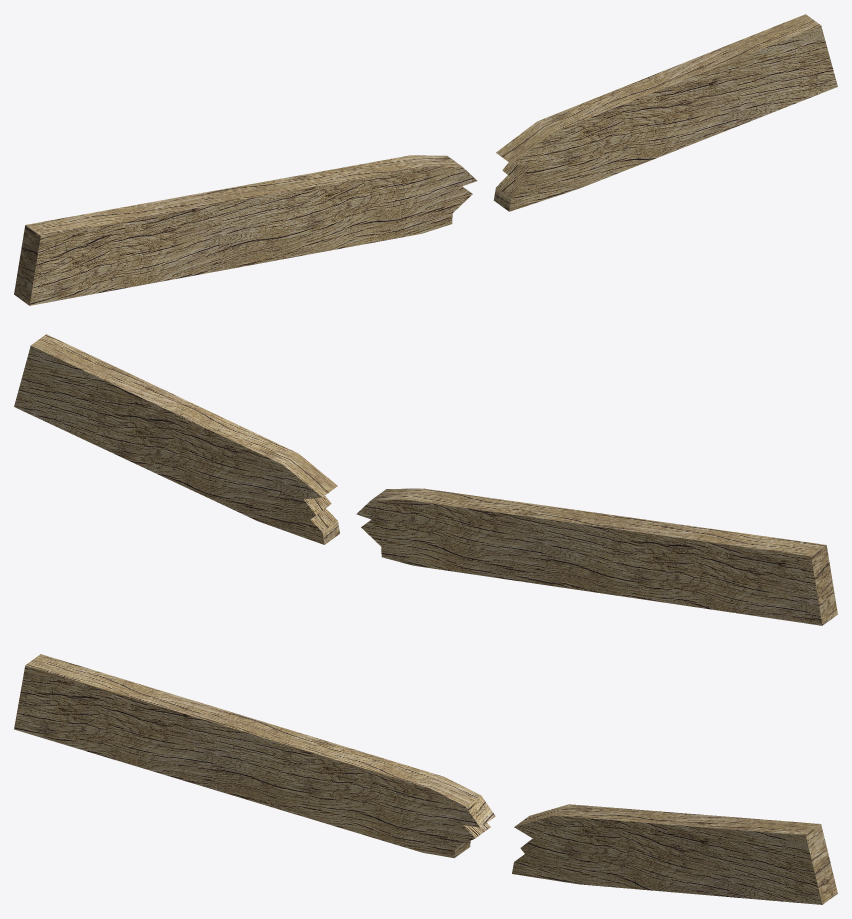
File: woodenPlank08.FBX
3 views of the same model, one above another, from view 1: azimuth 30°, elevation 25°; view 2: azimuth 150°, elevation 25°; view 3: azimuth 330°, elevation 25° (orthographic).
Visible parts, largest first — view 1: wooden_fence_plank_small4; view 2: wooden_fence_plank_small4; view 3: wooden_fence_plank_small4.
Boxes of the visible parts, <box> form: wooden_fence_plank_small4: <box>14,14,837,305</box>; wooden_fence_plank_small4: <box>14,334,837,625</box>; wooden_fence_plank_small4: <box>14,654,837,904</box>.
Bounding box in the file's own units: 261 × 36.74 × 13.75.
